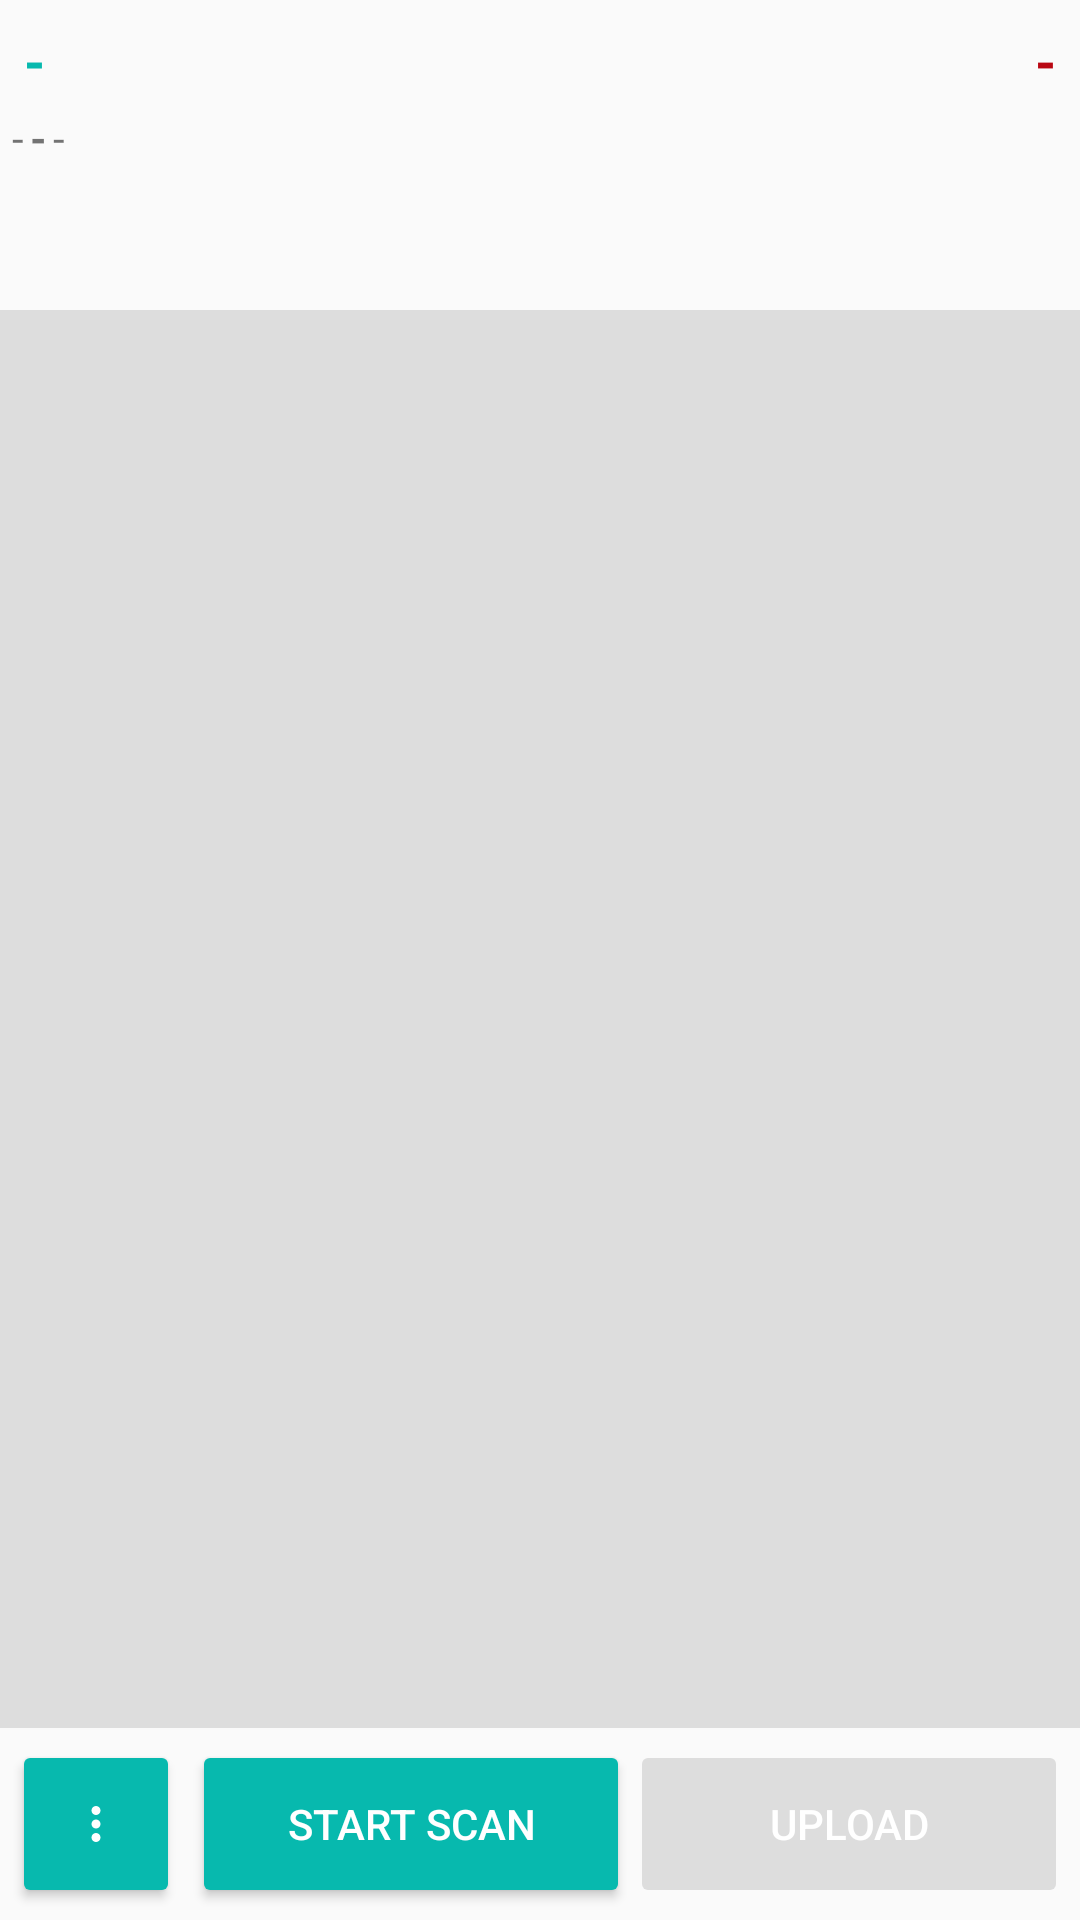

Named icons in this screenshot (1080 × 1920) and their centers, (x=x, y=y):
More: (x=95, y=1827)
